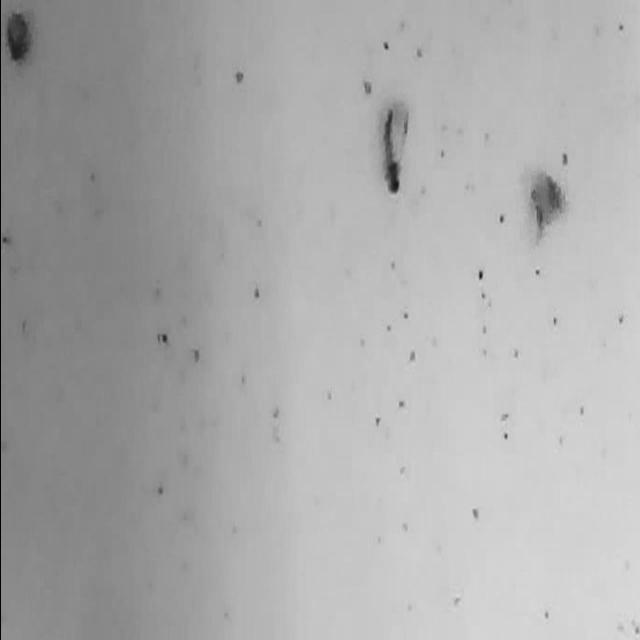larvas: (528, 171, 568, 241), (382, 98, 408, 192), (5, 6, 32, 66)
